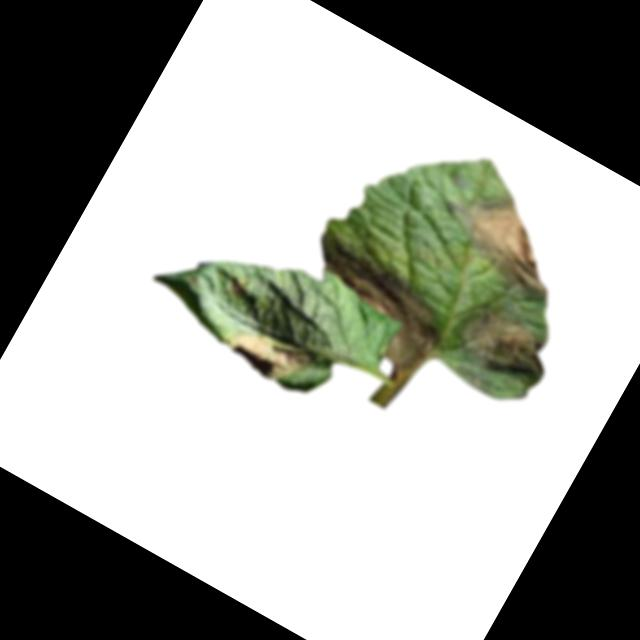Late_blight: (281, 225, 460, 380), (429, 171, 583, 307), (444, 292, 551, 392), (220, 310, 319, 394)
